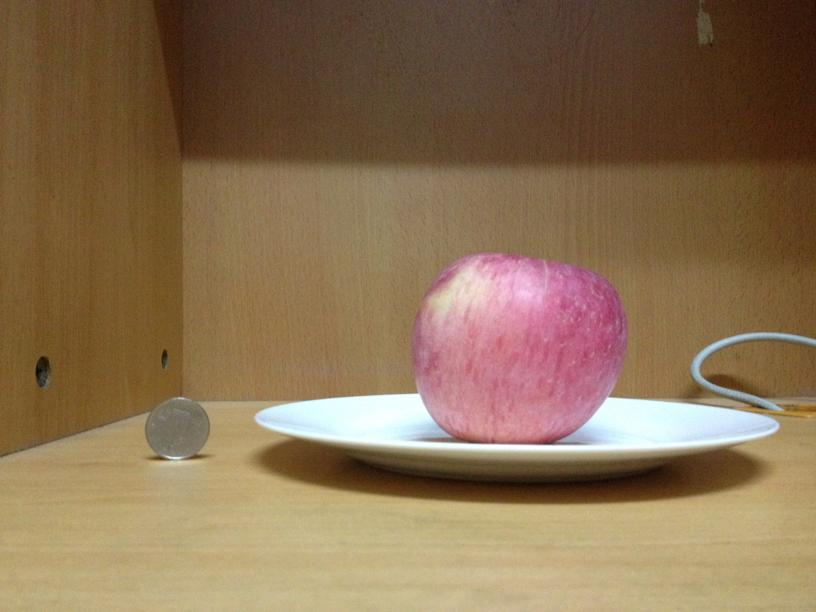apple: (412, 256, 625, 444)
coin: (142, 396, 211, 459)
